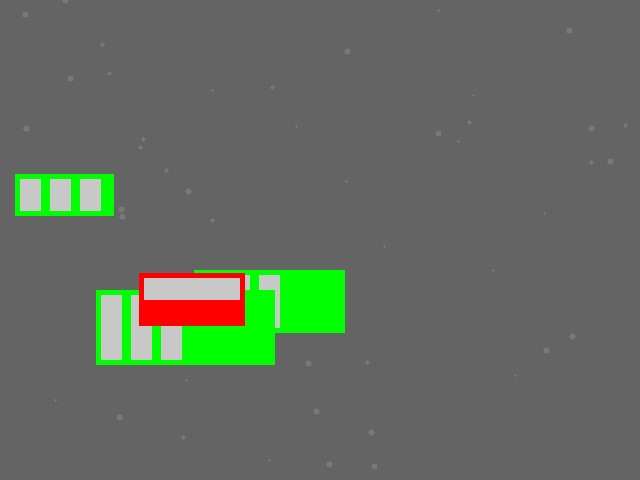bus: (96, 290, 274, 364), (194, 270, 344, 332), (15, 174, 113, 215)
car: (139, 273, 244, 325)
